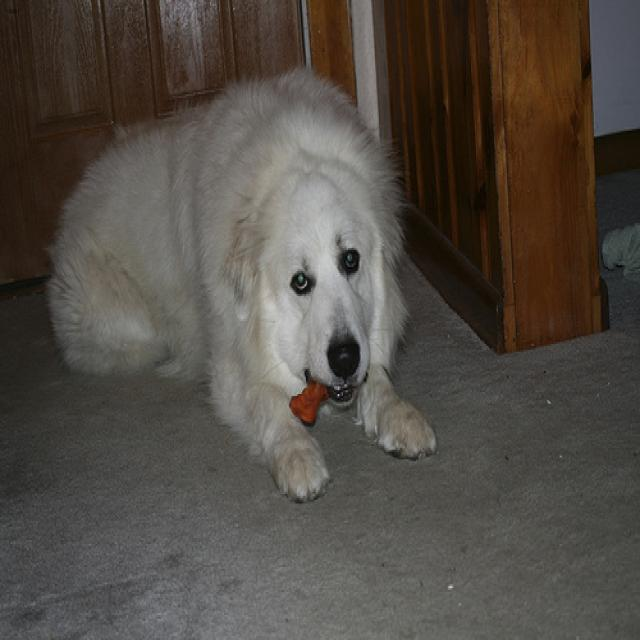dog-great_pyrenees: (36, 56, 443, 513)
